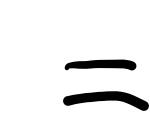eqv: (61, 55, 150, 112)
